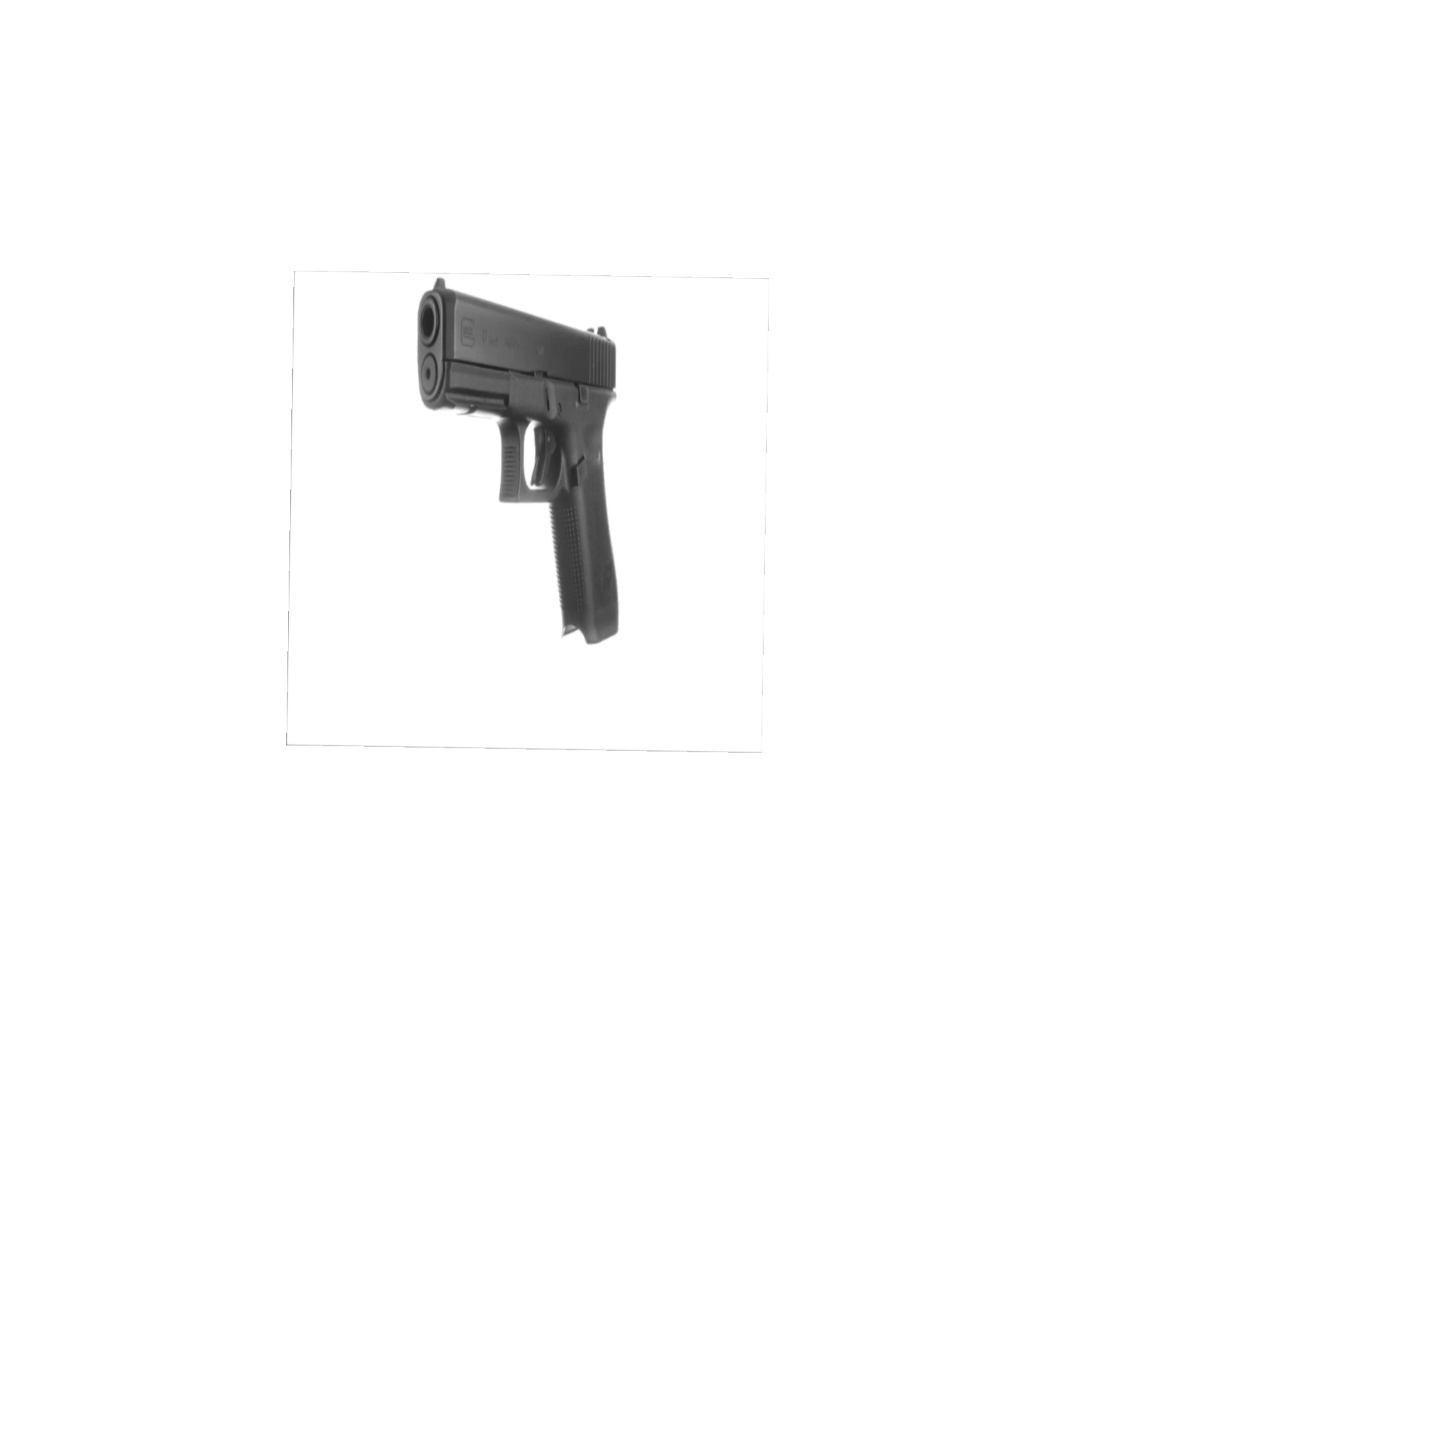gun: (396, 263, 643, 649)
